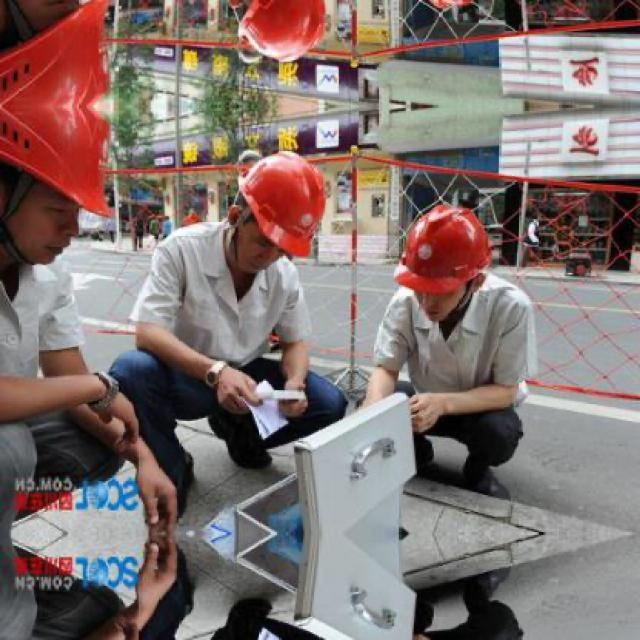helmet: (2, 106, 123, 273), (226, 145, 348, 270), (1, 0, 124, 108), (392, 199, 498, 308), (226, 0, 349, 69)
